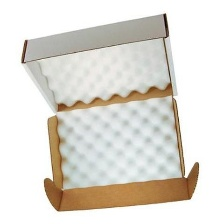foam_box: (50, 93, 187, 193), (30, 33, 177, 109)
